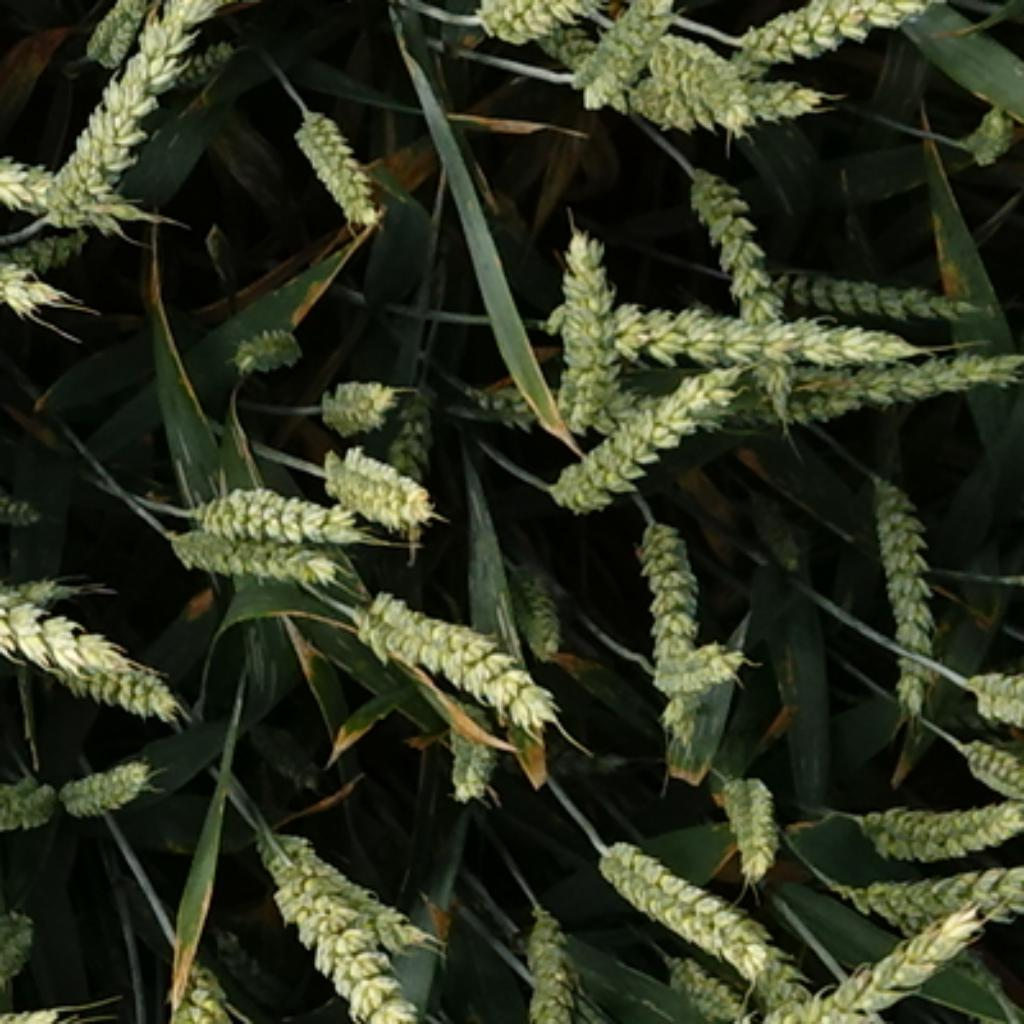0-0: (49, 0, 239, 229), (688, 153, 814, 430), (586, 819, 790, 988), (258, 857, 442, 1024), (545, 358, 752, 506), (348, 586, 560, 727), (0, 585, 194, 738), (763, 911, 989, 1024), (256, 824, 453, 949), (629, 296, 944, 373), (752, 345, 1021, 432), (860, 463, 947, 727), (535, 225, 650, 419), (716, 0, 1000, 66), (0, 110, 166, 220), (640, 512, 714, 750), (468, 376, 757, 435), (598, 69, 859, 133), (179, 473, 384, 550), (161, 522, 368, 591), (847, 785, 1024, 860), (566, 0, 678, 115), (296, 104, 396, 232), (770, 258, 965, 320), (317, 430, 437, 522), (641, 30, 775, 108), (856, 866, 1024, 928), (0, 225, 104, 325), (463, 0, 645, 57), (647, 611, 747, 709), (0, 563, 128, 637), (512, 901, 583, 1021), (499, 547, 570, 660), (0, 217, 120, 281), (58, 757, 166, 824), (714, 760, 783, 862), (154, 947, 245, 1023), (658, 955, 758, 1024), (442, 704, 506, 808), (384, 378, 448, 481), (76, 0, 153, 81), (312, 366, 396, 430), (952, 729, 1024, 801), (954, 660, 1024, 734), (0, 760, 69, 834), (755, 499, 811, 583), (163, 38, 245, 92), (225, 322, 304, 376), (954, 108, 1013, 172), (0, 896, 40, 985), (31, 393, 77, 465)
